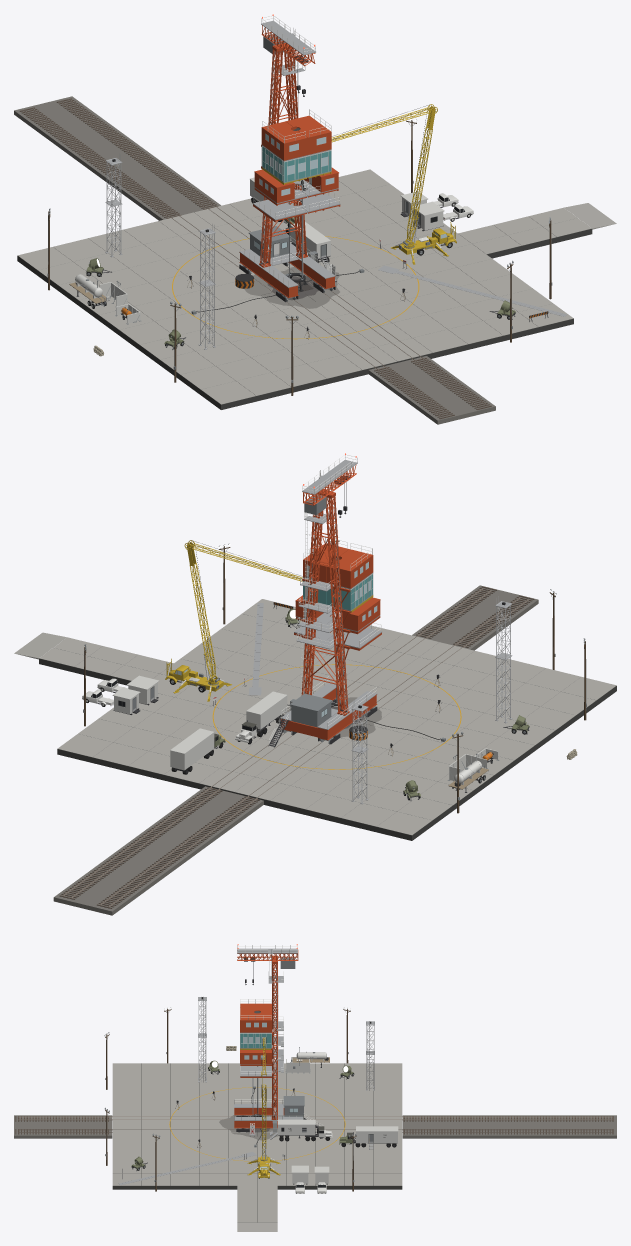
The model's file is pad.lod2.glb.
The picture shows the model from 3 angles, top to bottom: view 1: azimuth 30°, elevation 25°; view 2: azimuth 150°, elevation 25°; view 3: azimuth 270°, elevation 25°; orthographic projection. The views are drawn at different scales.
Visible parts, largest first — view 1: Hardstand_Concrete, Hardstand_Ballast, Hardstand_Tie, ServiceStructure_Red, Hardstand_Joint, Hardstand_Rail, ServiceStructure_Deck, ServiceStructure_Platform4_Left_Red, Hardstand_Stain, CameraTowers_Tower1_Galv, CameraTowers_Tower2_Galv, CherryPicker_Mast_Yellow (+13 smaller); view 2: Hardstand_Concrete, Hardstand_Ballast, ServiceStructure_Red, Hardstand_Tie, Hardstand_Joint, Hardstand_Rail, ServiceStructure_Deck, CameraTowers_Tower1_Galv, ServiceStructure_Grey, GroundEquipment_Trailer_TrailerVan, ServiceStructure_White, ServiceStructure_Platform4_Left_Red (+11 smaller); view 3: Hardstand_Concrete, Hardstand_Ballast, Hardstand_Rail, ServiceStructure_Red, Hardstand_Tie, Hardstand_Joint, ServiceStructure_Deck, GroundEquipment_Trailer_TrailerVan, ServiceStructure_Grey, GroundEquipment_TransferVan_TrailerTv, ServiceStructure_Platform4_Right_Red, ServiceStructure_White (+6 smaller).
Part boxes in pixels (x1,y1,x2,y2): Hardstand_Concrete: (18, 169, 591, 404); Hardstand_Ballast: (14, 96, 495, 424); Hardstand_Tie: (19, 98, 491, 419); ServiceStructure_Red: (239, 25, 335, 298); Hardstand_Joint: (17, 213, 592, 409); Hardstand_Rail: (23, 99, 486, 416); ServiceStructure_Deck: (239, 20, 335, 287); ServiceStructure_Platform4_Left_Red: (261, 121, 307, 160); Hardstand_Stain: (244, 266, 339, 308); CameraTowers_Tower1_Galv: (199, 228, 215, 349); CameraTowers_Tower2_Galv: (105, 158, 122, 257); CherryPicker_Mast_Yellow: (407, 104, 437, 240); Hardstand_Concrete: (39, 599, 616, 835); Hardstand_Ballast: (53, 585, 538, 915); ServiceStructure_Red: (281, 464, 377, 740); Hardstand_Tie: (59, 586, 534, 908); Hardstand_Joint: (39, 638, 616, 840); Hardstand_Rail: (63, 587, 528, 907); ServiceStructure_Deck: (280, 460, 376, 729); CameraTowers_Tower1_Galv: (495, 601, 512, 723); ServiceStructure_Grey: (289, 494, 369, 738); GroundEquipment_Trailer_TrailerVan: (170, 728, 214, 770); ServiceStructure_White: (269, 454, 376, 745); ServiceStructure_Platform4_Left_Red: (327, 549, 373, 588); Hardstand_Concrete: (112, 1063, 402, 1222); Hardstand_Ballast: (14, 1115, 616, 1138); Hardstand_Rail: (18, 1116, 612, 1132); ServiceStructure_Red: (234, 950, 298, 1128); Hardstand_Tie: (15, 1116, 613, 1134); Hardstand_Joint: (112, 1063, 402, 1222); ServiceStructure_Deck: (234, 948, 303, 1135); GroundEquipment_Trailer_TrailerVan: (356, 1126, 398, 1143); ServiceStructure_Grey: (273, 957, 304, 1118); GroundEquipment_TransferVan_TrailerTv: (277, 1119, 315, 1135); ServiceStructure_Platform4_Right_Red: (240, 1012, 271, 1032); ServiceStructure_White: (234, 945, 323, 1127).
Size of the model in its own units: 90.64 by 42.38 by 127.
